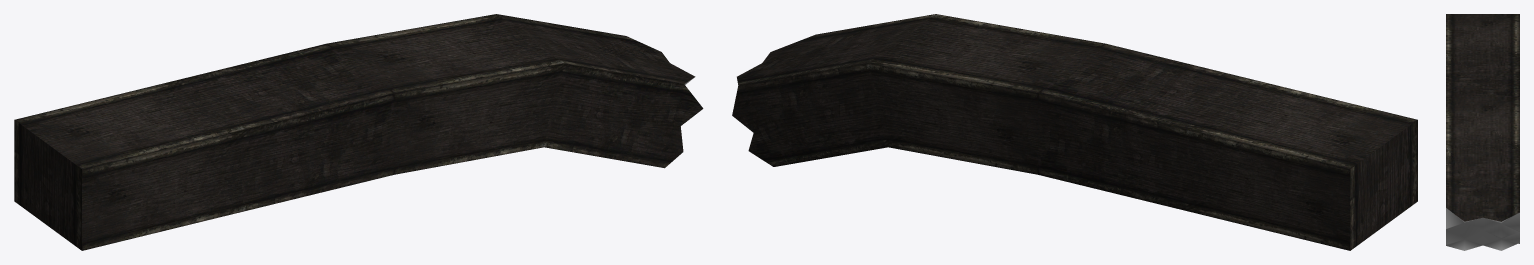
File: welder_wood_middle_broken.dae
3 renders of one model, left to right at view 1: azimuth 30°, elevation 25°; view 2: azimuth 150°, elevation 25°; view 3: azimuth 270°, elevation 25°, orthographic. The views are drawn at different scales.
Visible parts, largest first — view 1: polySurface2; view 2: polySurface2; view 3: polySurface2, polySurface3.
Boxes of the visible parts, x1=… form: polySurface2: x1=14, y1=14, x2=703, y2=250; polySurface2: x1=732, y1=14, x2=1417, y2=250; polySurface2: x1=1446, y1=14, x2=1519, y2=221; polySurface3: x1=1446, y1=208, x2=1519, y2=250.
Bounding box in the file's own units: 4.04 × 0.89 × 0.75.
